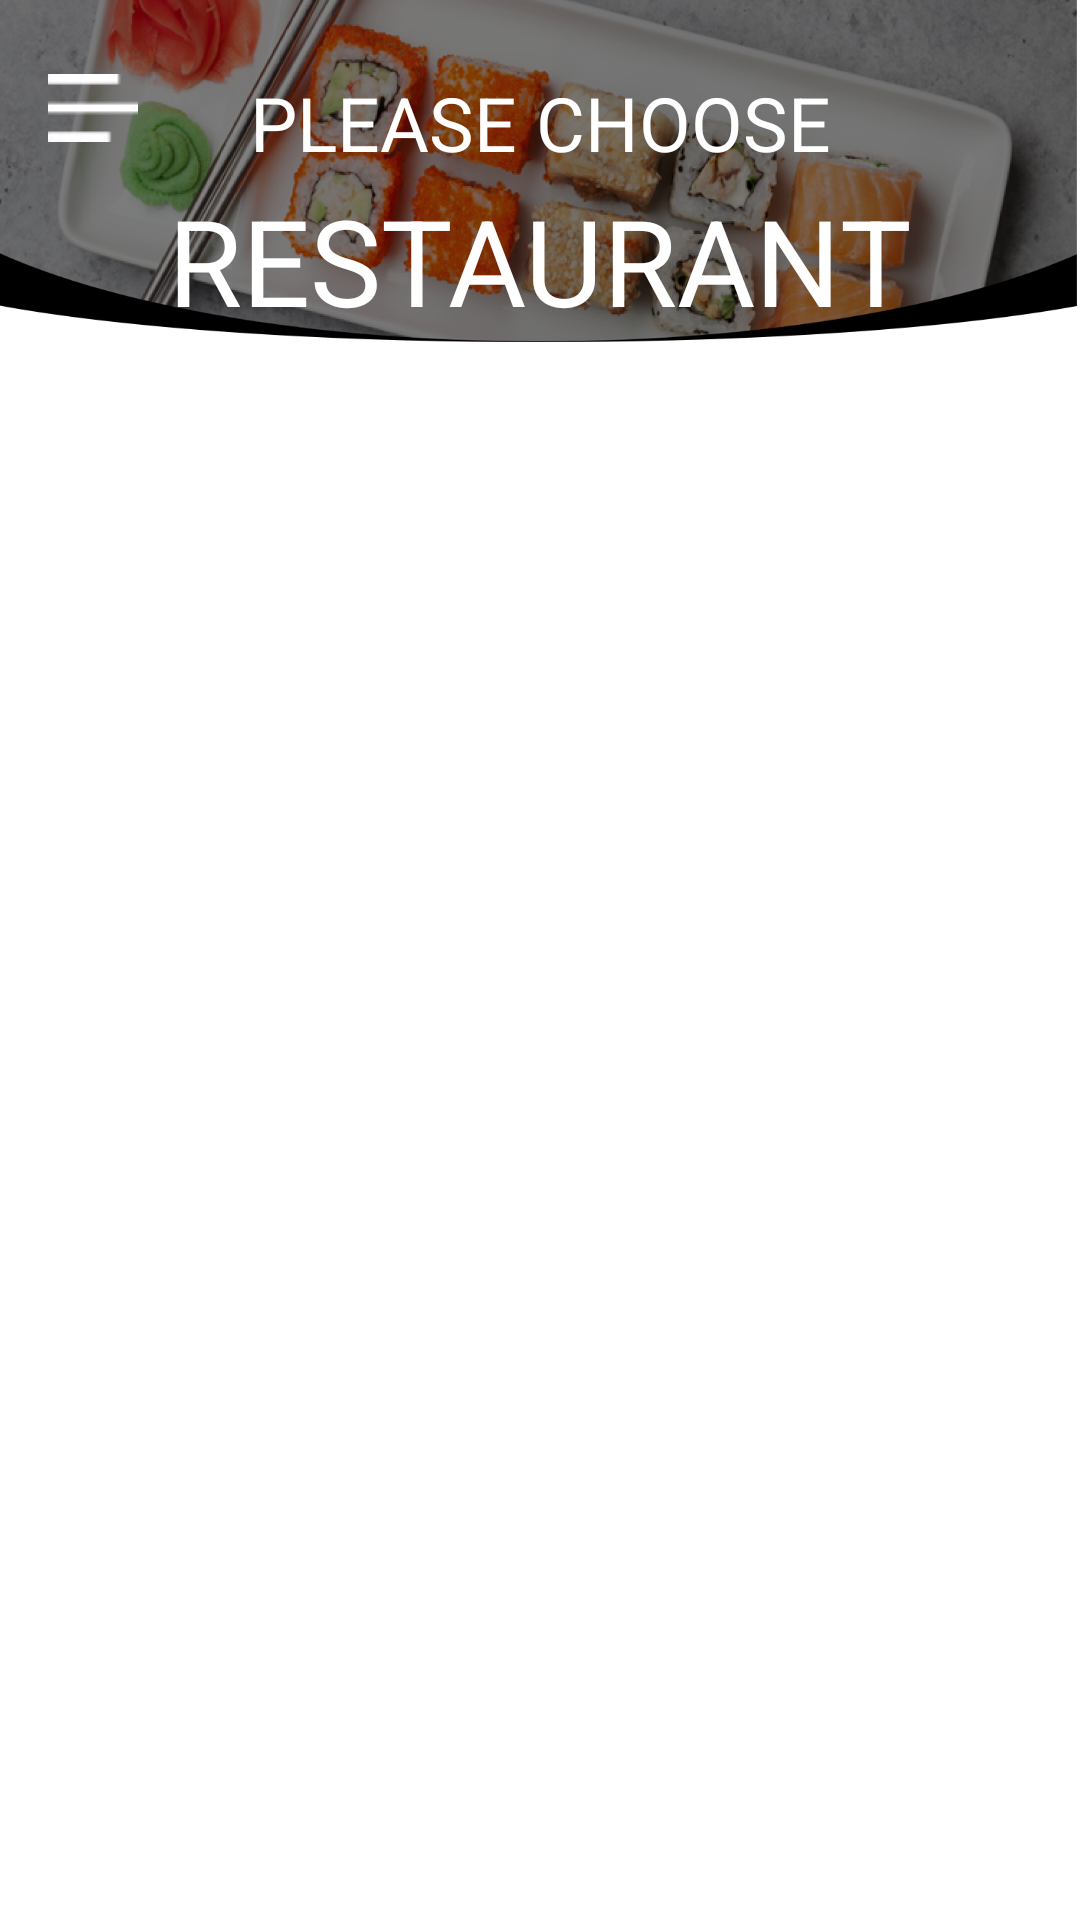

Icons on this 1080px x 1920px Android screen, each with its box as bbox(x1, y1, x2, y2):
menu: bbox(48, 48, 138, 168)
